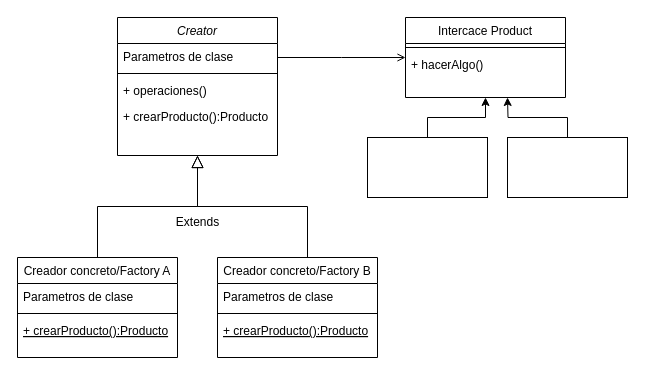
This 645x375 diagram has some shape labels left out. Each missing label, with the centre of its shape:
ConcreteProduct A: point 427,167
ConcreteProduct B: point 567,167
